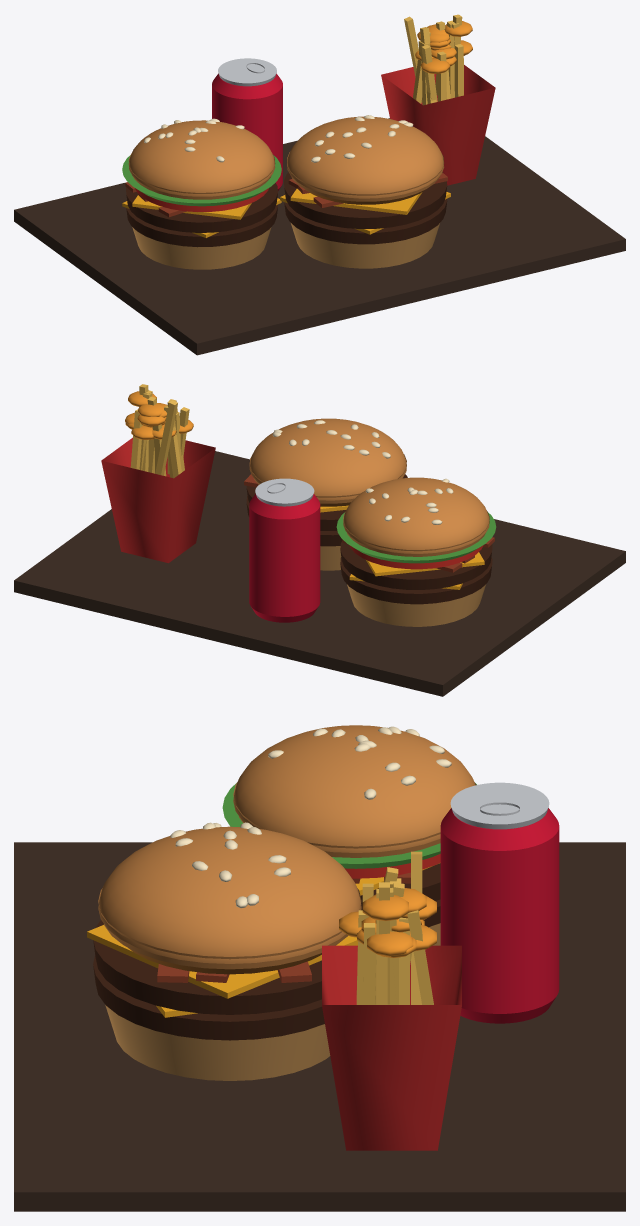
Rendered from combo.glb.
The picture shows the model from 3 angles, top to bottom: view 1: azimuth 30°, elevation 25°; view 2: azimuth 150°, elevation 25°; view 3: azimuth 270°, elevation 25°; orthographic projection. The views are drawn at different scales.
Bounding box in the file's own units: 0.46 × 0.172 × 0.34.
